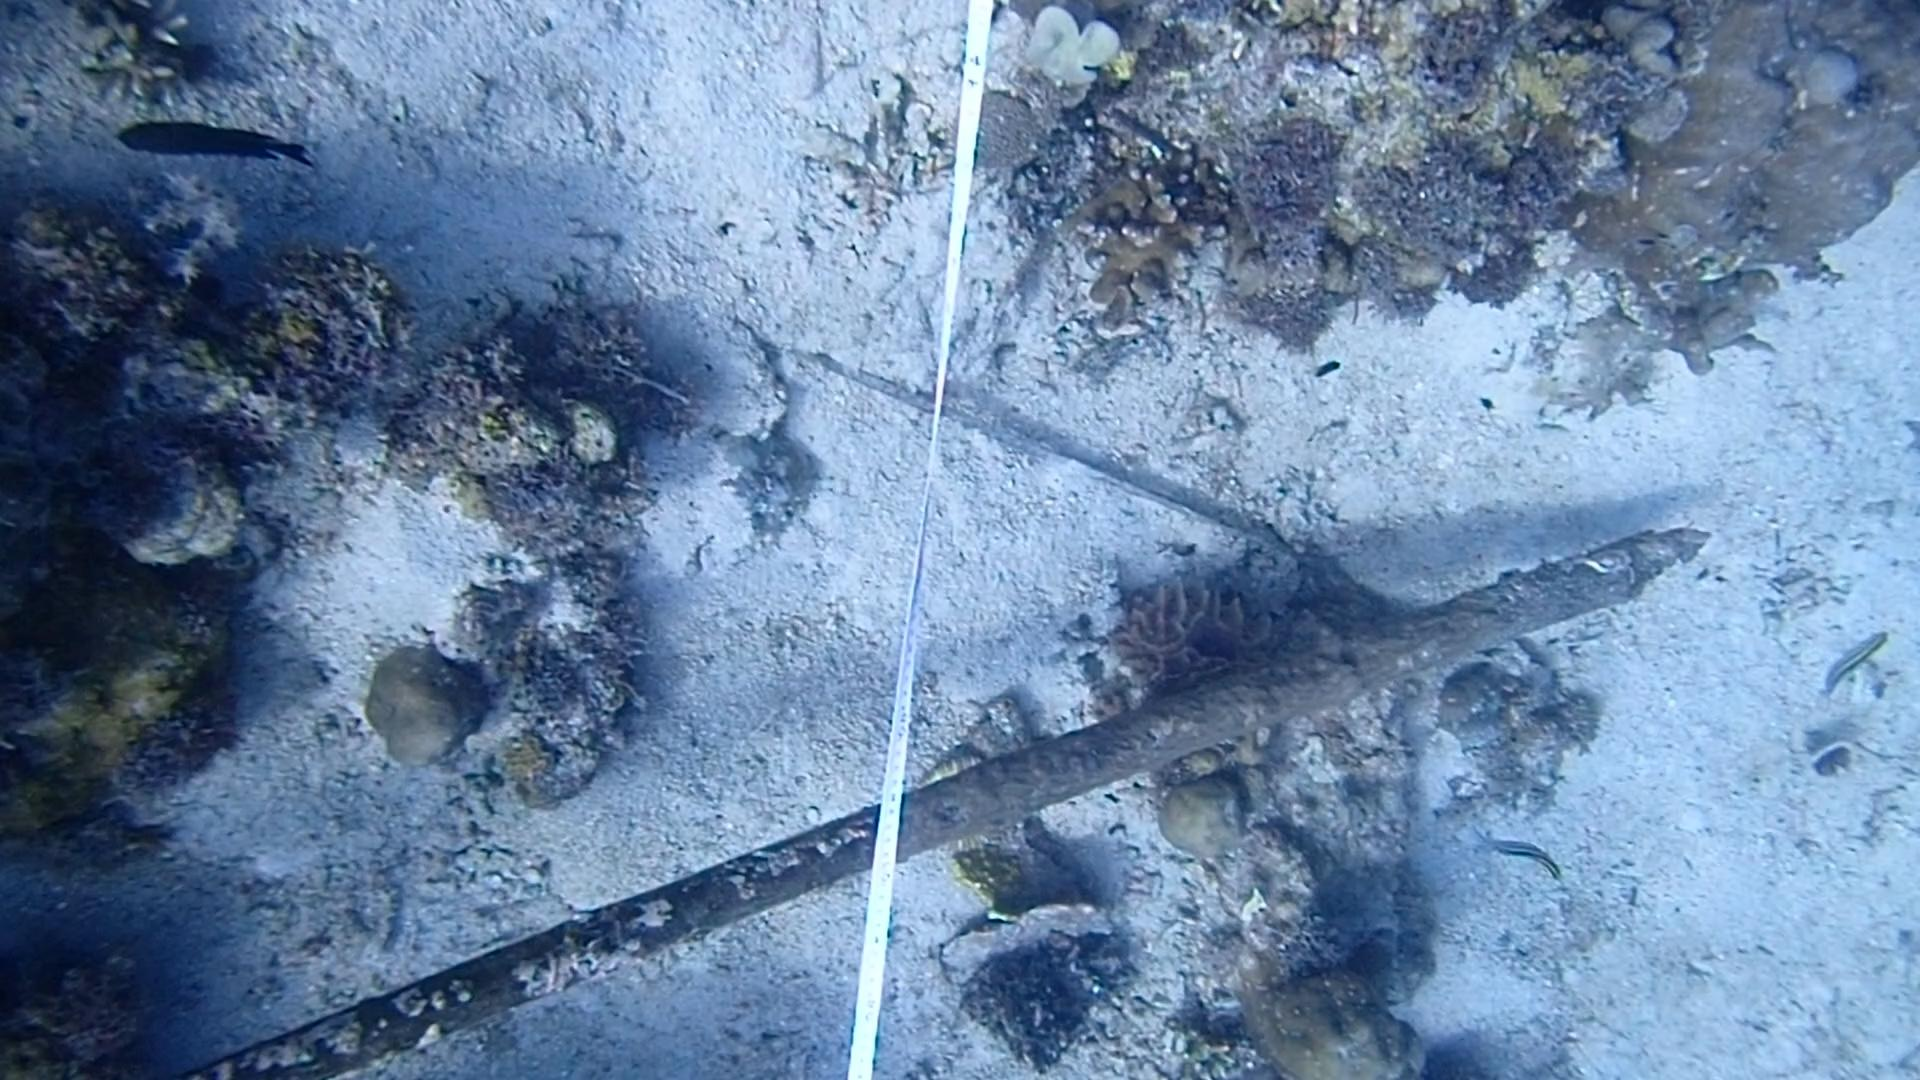Dark Fish: (116, 108, 316, 175)
Striped Fish: (1477, 818, 1571, 891), (1808, 628, 1892, 709)
